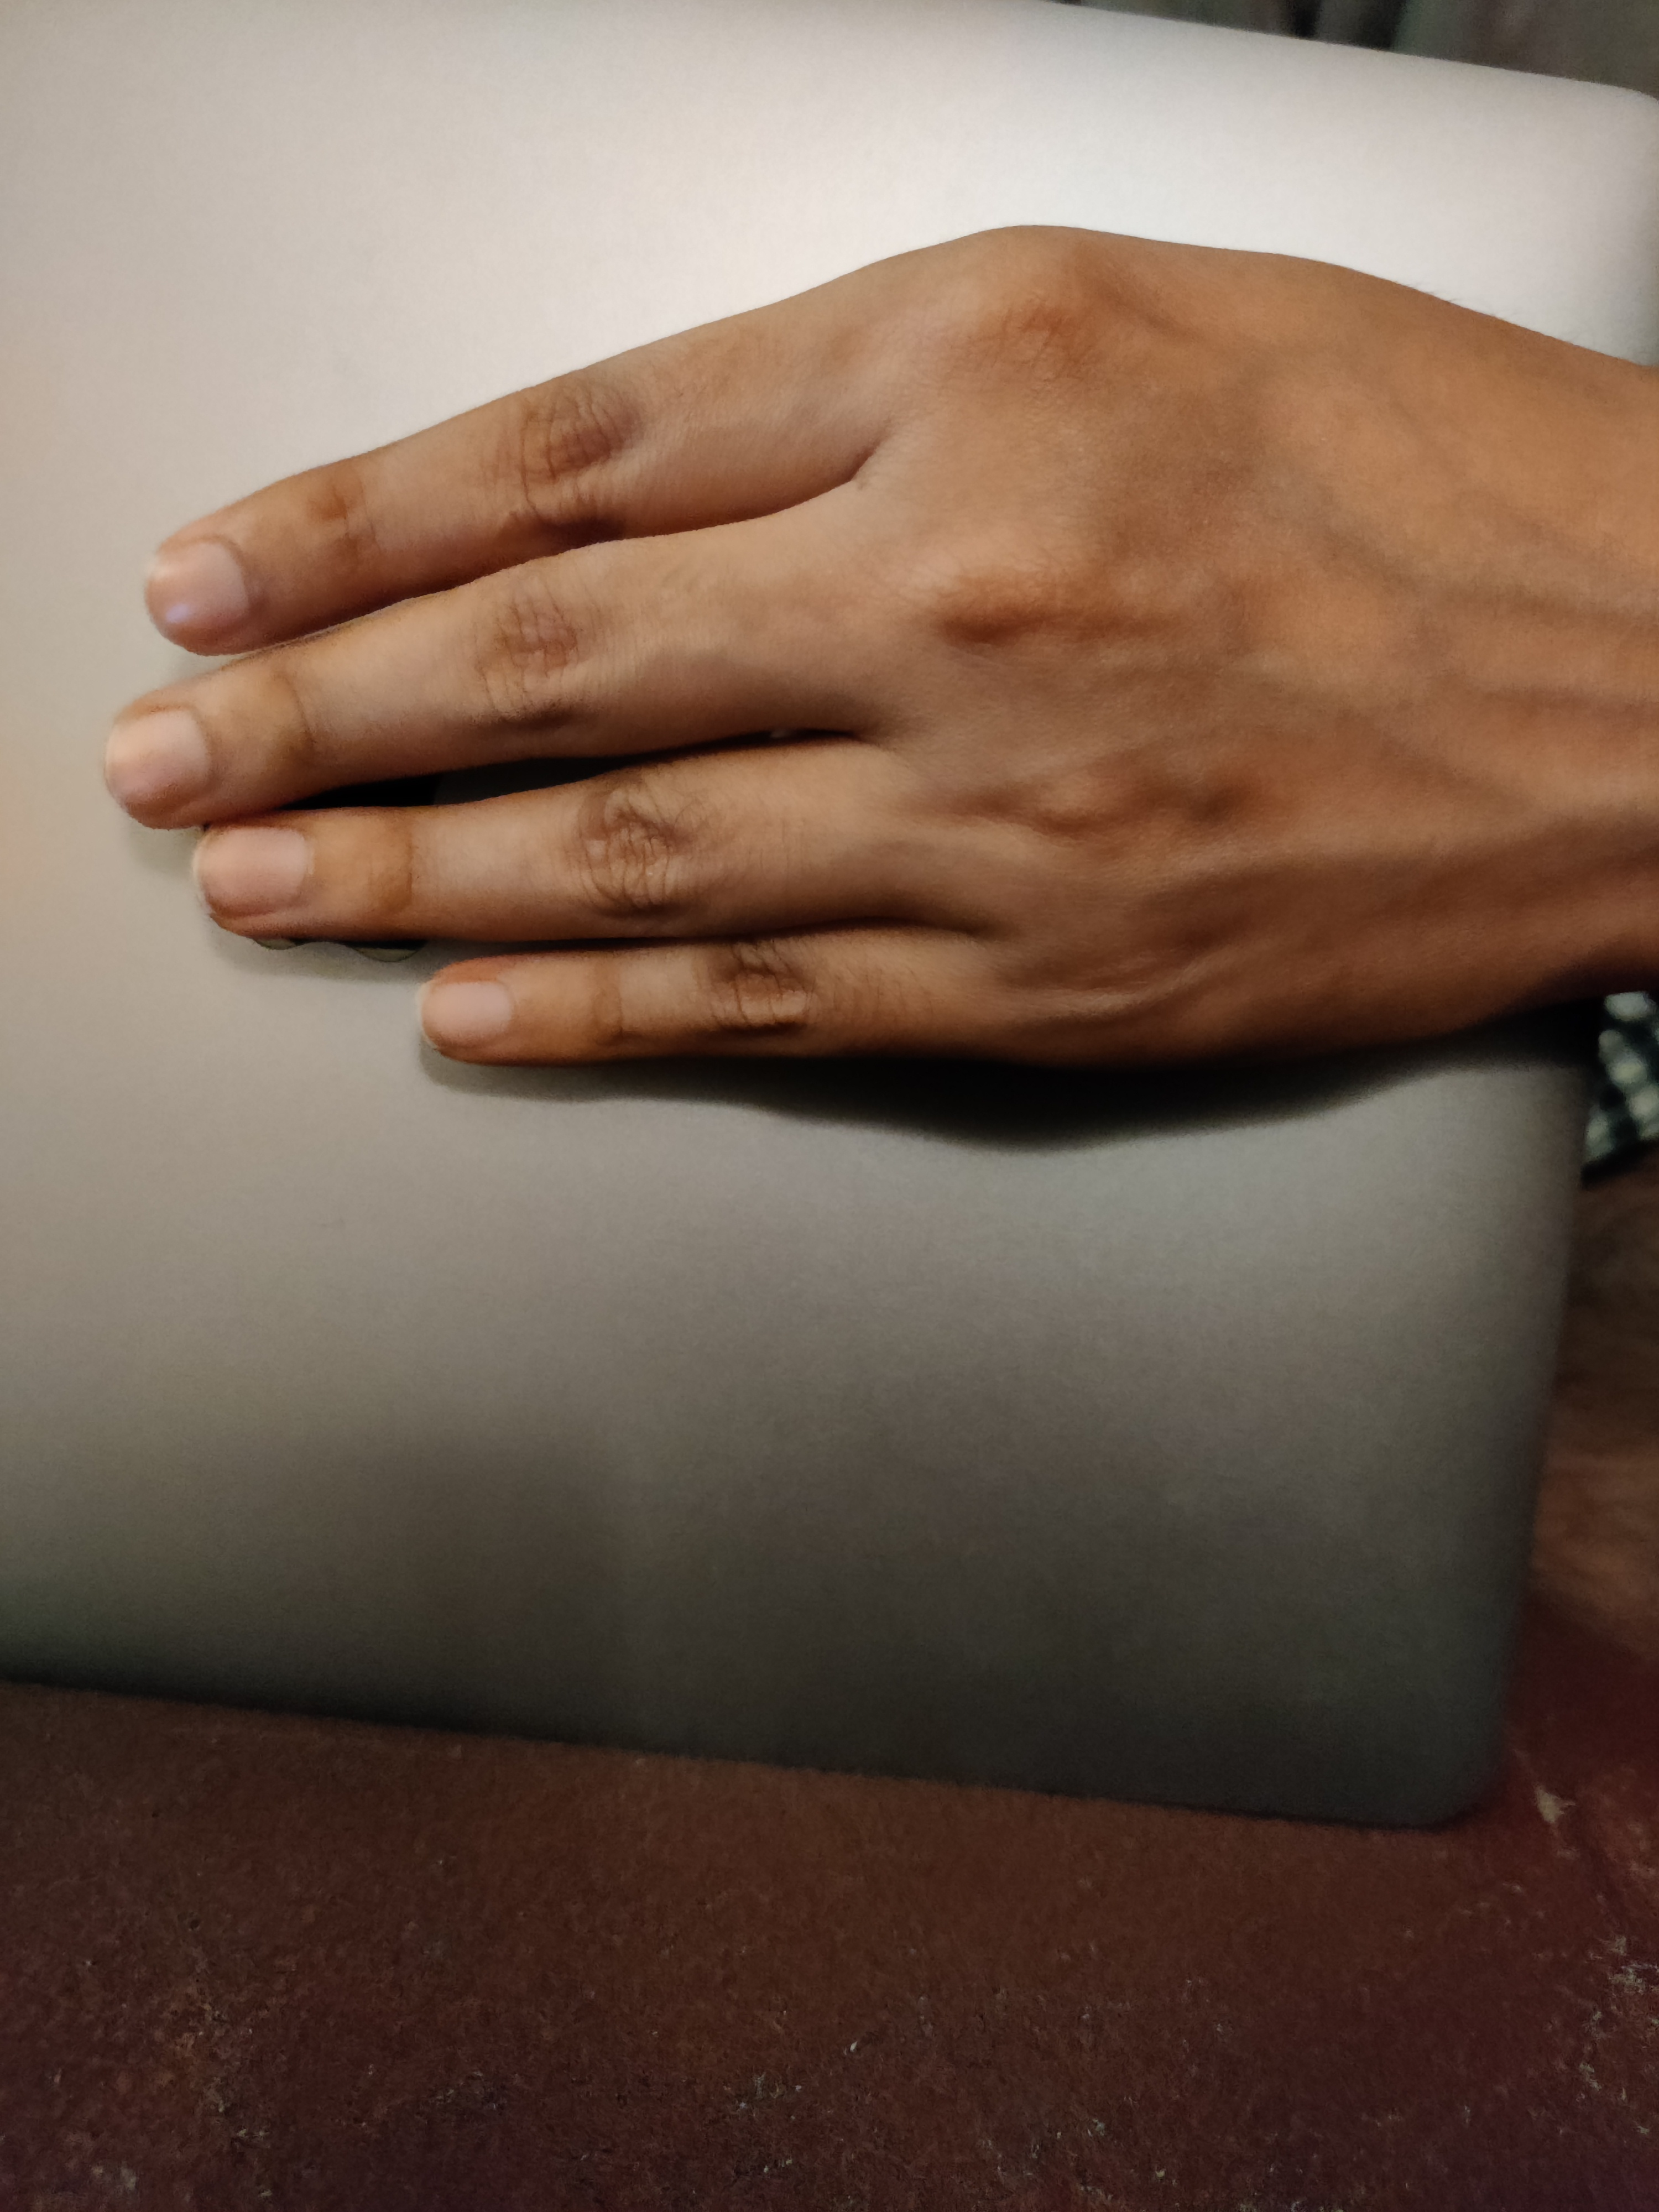right: (31, 66, 1638, 1263)
